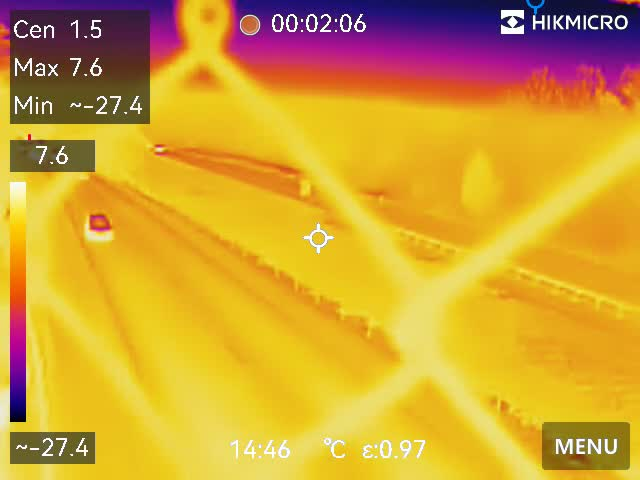vehicle: (87, 204, 112, 244)
